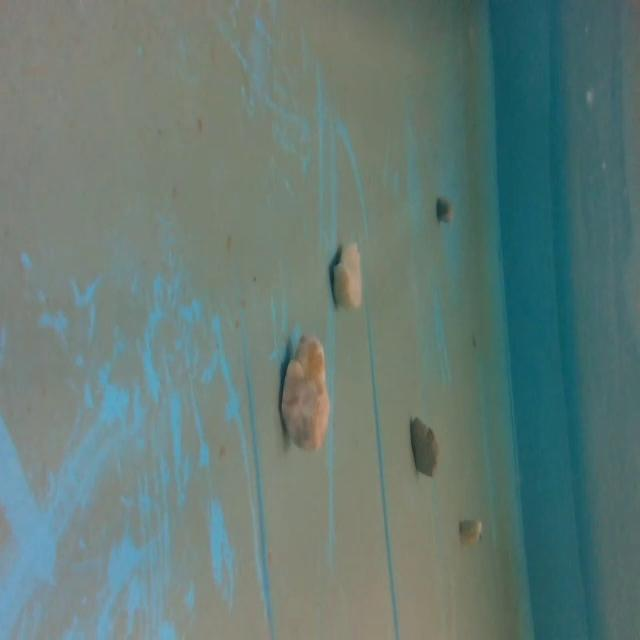rock: (277, 328, 336, 459), (322, 233, 366, 314), (407, 414, 439, 475), (457, 512, 482, 550), (433, 195, 454, 230)
